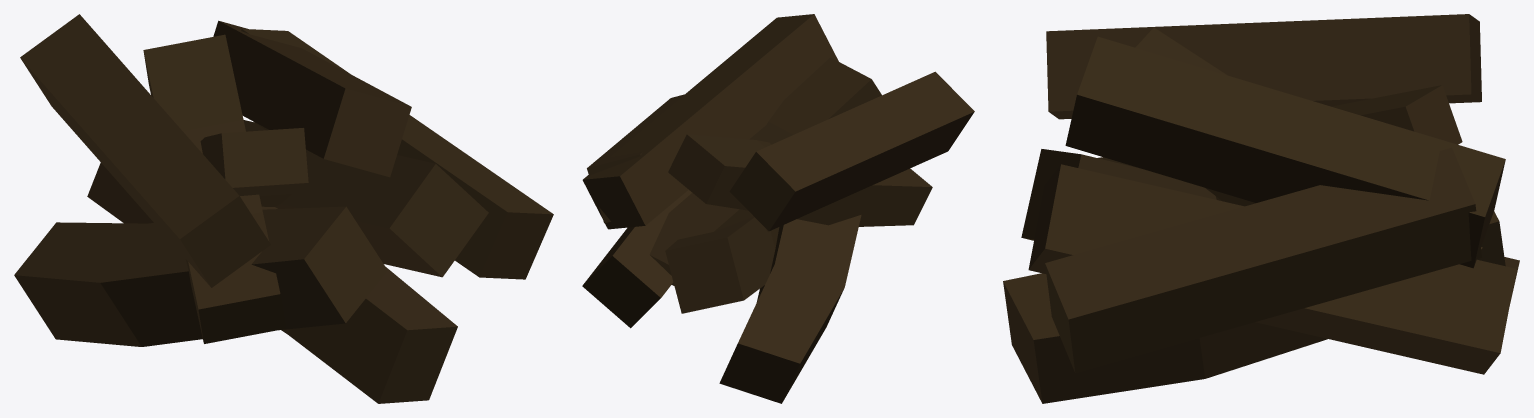
File: FriesBurnt.glb
3 renders of one model, left to right at view 1: azimuth 30°, elevation 25°; view 2: azimuth 150°, elevation 25°; view 3: azimuth 270°, elevation 25°, orthographic. The views are drawn at different scales.
Parts seen in each view (by area): view 1: Cube.134; view 2: Cube.134; view 3: Cube.134.
Boxes of the visible parts, <box> form: Cube.134: <box>14,14,553,403</box>; Cube.134: <box>582,14,974,403</box>; Cube.134: <box>1003,14,1519,403</box>.
Bounding box in the file's own units: 0.4322 × 0.3721 × 0.4664.
